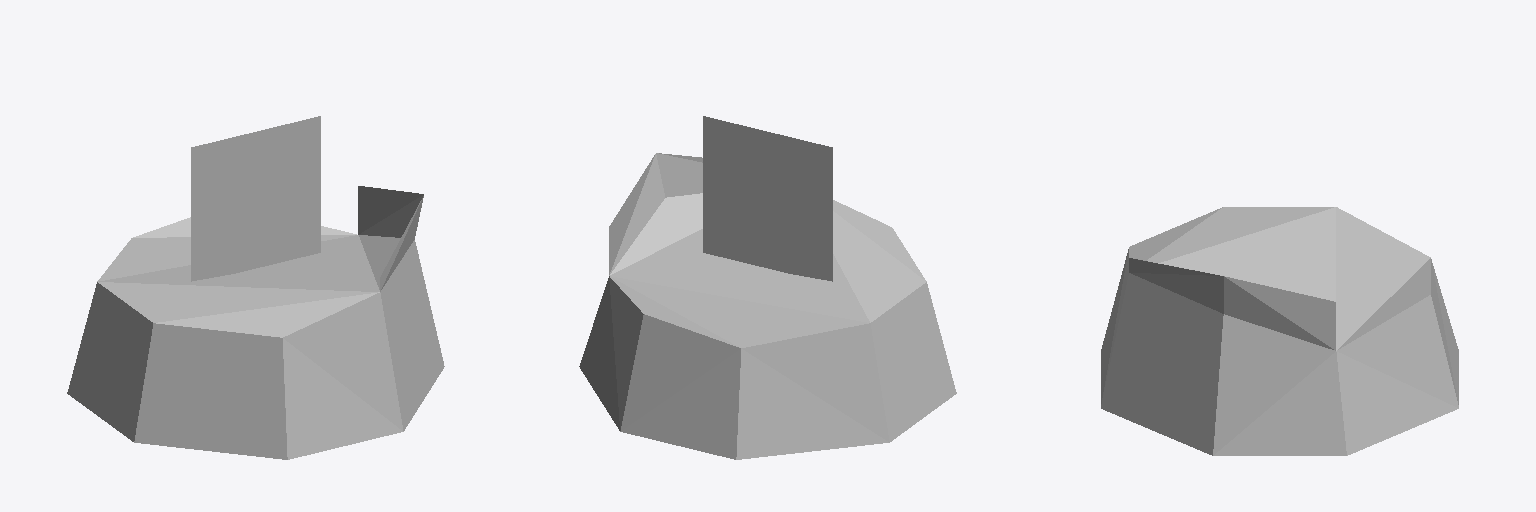
The model's file is pen_001.obj.
The picture shows the model from 3 angles: view 1: azimuth 30°, elevation 25°; view 2: azimuth 150°, elevation 25°; view 3: azimuth 270°, elevation 25°; orthographic projection.
Visible parts, largest first — view 1: Пень.001; view 2: Пень.001; view 3: Пень.001.
Boxes of the visible parts, box(x1,y1,x2,y2) form: Пень.001: box(67, 116, 444, 459); Пень.001: box(579, 116, 956, 459); Пень.001: box(1101, 207, 1458, 455).
Size of the model in its own units: 1.32 by 1.01 by 1.32.